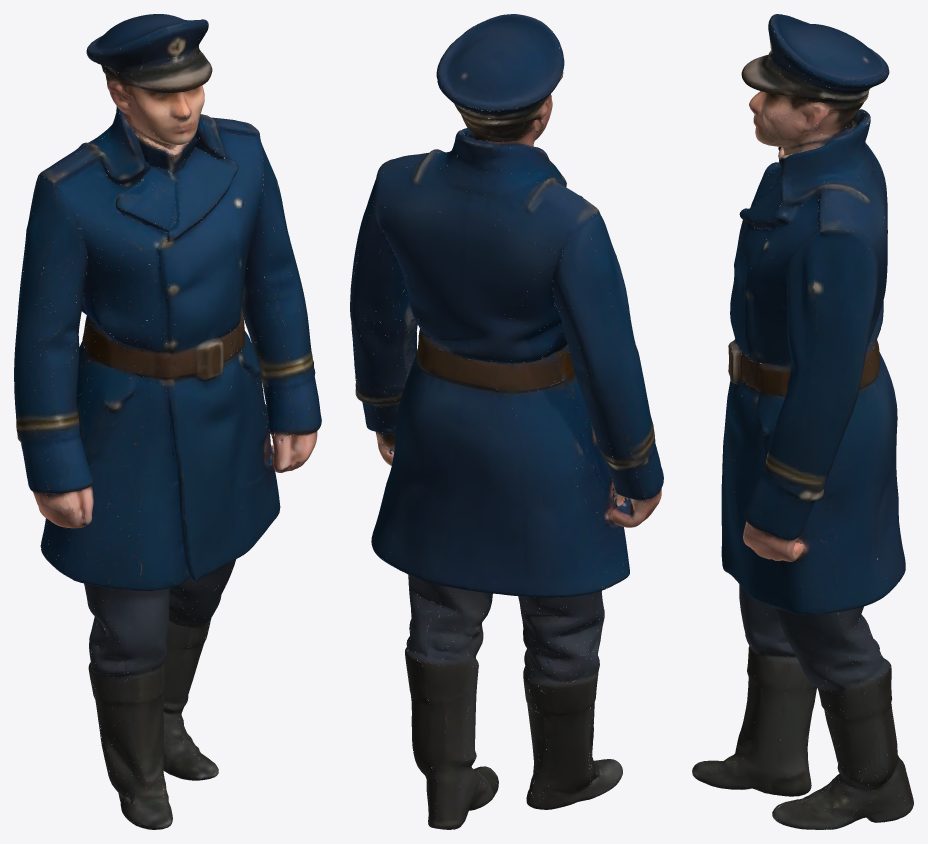
The model's file is char_soldier_blue.glb.
The picture shows the model from 3 angles, left to right: view 1: azimuth 30°, elevation 25°; view 2: azimuth 150°, elevation 25°; view 3: azimuth 270°, elevation 25°; orthographic projection. The views are drawn at different scales.
Visible parts, largest first — view 1: geometry_0; view 2: geometry_0; view 3: geometry_0.
Boxes of the visible parts, <box> form: geometry_0: <box>14,14,321,829</box>; geometry_0: <box>350,14,663,829</box>; geometry_0: <box>692,14,913,829</box>.
Size of the model in its own units: 0.7085 by 1.8 by 0.4618.
1 material, 1 textured.
